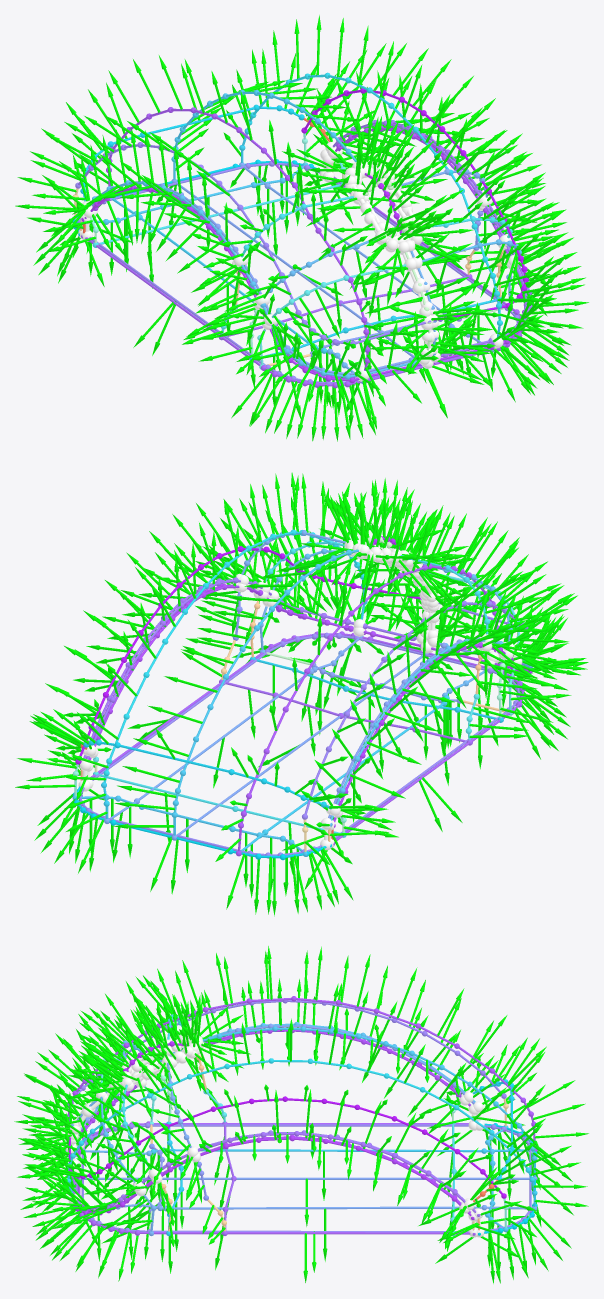
The model's file is flowrep_mouse.gltf.
3 views of the same model, one above another, from view 1: azimuth 30°, elevation 25°; view 2: azimuth 150°, elevation 25°; view 3: azimuth 270°, elevation 25° (orthographic). The views are drawn at different scales.
Bounding box in the file's own units: 0.6626 × 0.4905 × 1.03.
